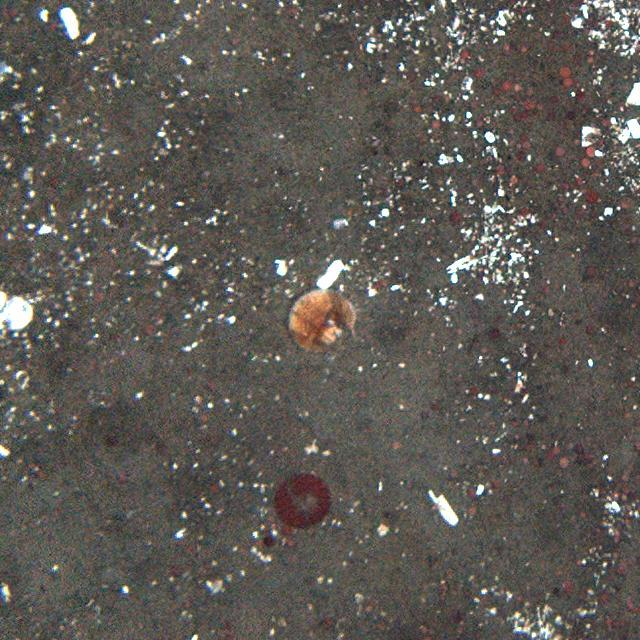scallop: (283, 288, 363, 353)
